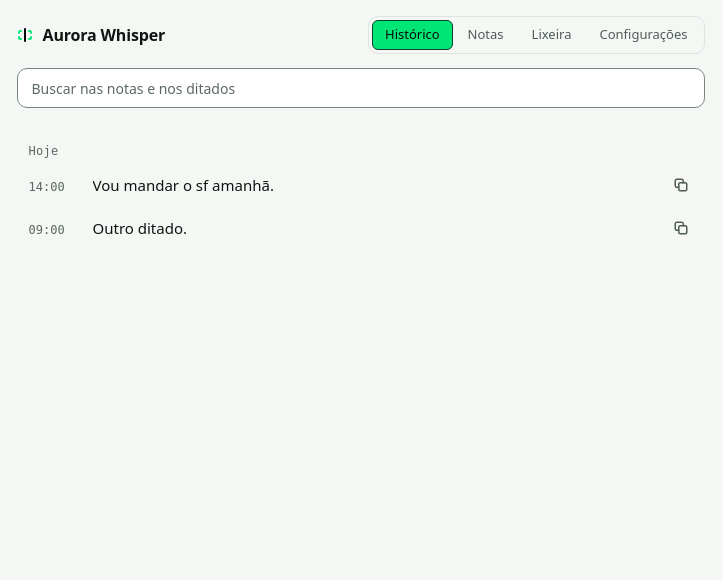
o aviso da sugestão › o conflito de versão não oferece aprender
Click the button "14:00 Vou mandar o sf amanhã.": (47,187) [16,164,704,206]
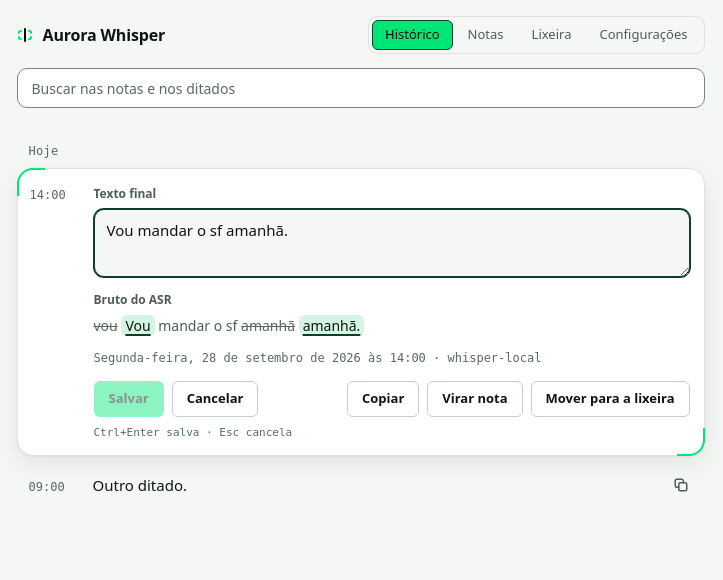
Replace the text in the text box labelled "Texto final" with "Vou mandar o ECF amanhã.": (392,243) [94,209,690,276]
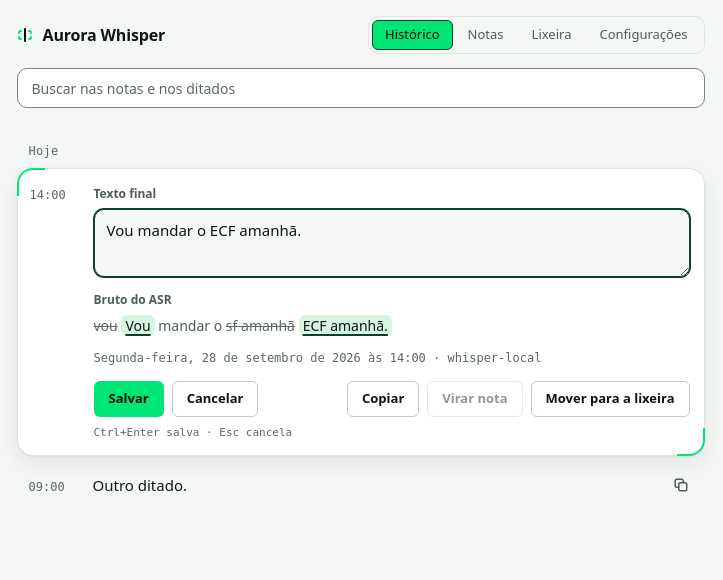
Click the button "Salvar": (129,399) [94,381,164,417]
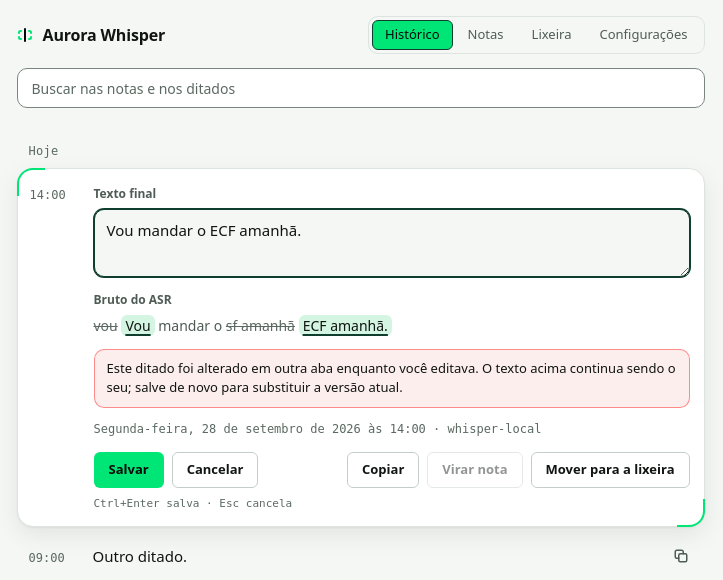
expect the message shows "alterado em outra aba": met, box [94,349,690,408]
